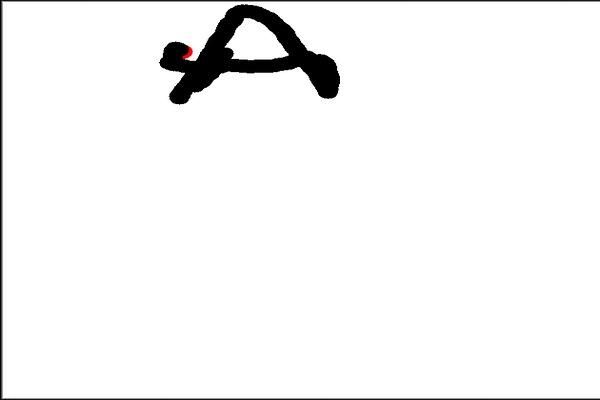A: (154, 3, 347, 113)
